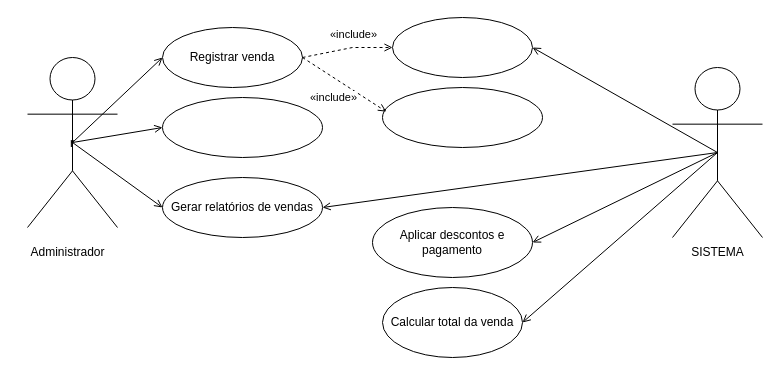
Some shapes in this 780 by 375 pixel diagram are drawn without their labels. Each missing label, with the centre of its shape:
"Atualizar Estoque" belongs at point (462, 117).
"Editar Produtos" belongs at point (242, 127).
"Escolher forma de pagamento" belongs at point (462, 47).
